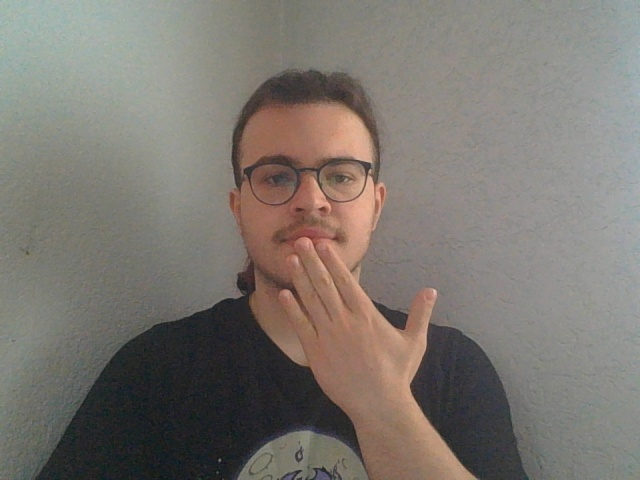ThankYou: (276, 234, 439, 480)
